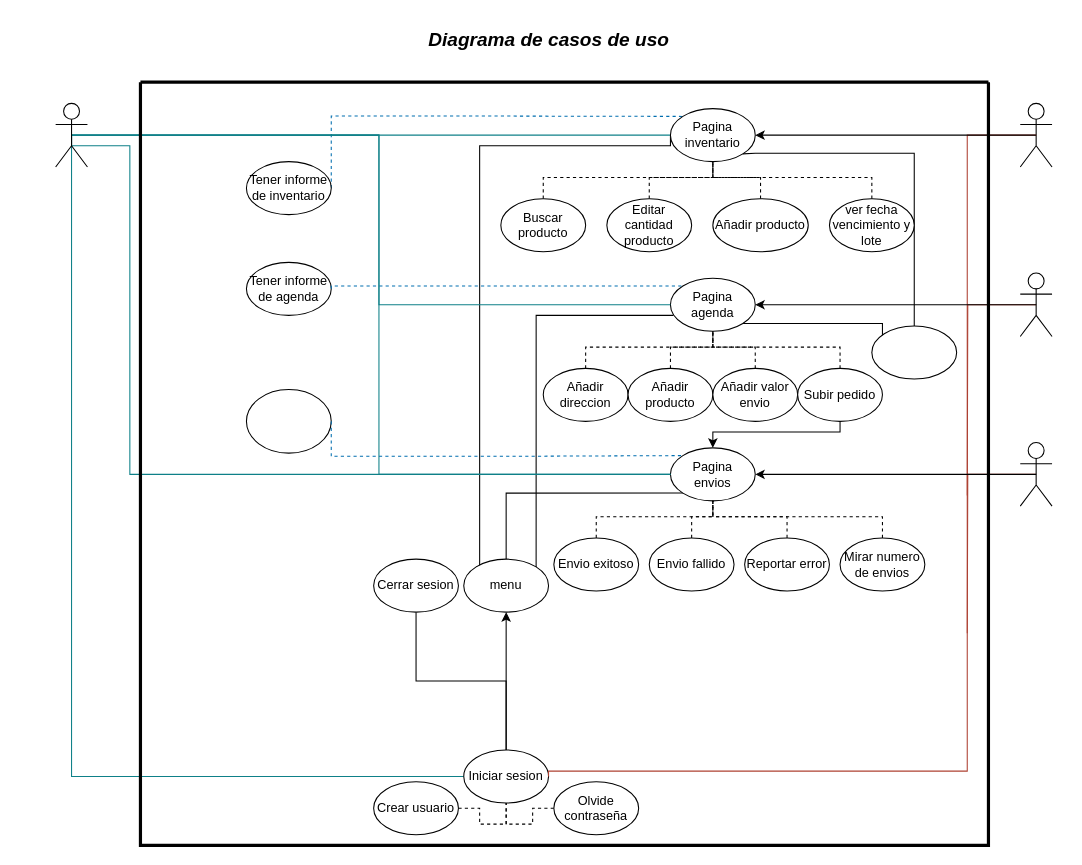
The diagram is 1082 pixels wide and 865 high, and some of its shapes have lost their labels. Each missing label, with the centre of its shape:
Actualizar inventario: point (914, 352)
ADMINISTRADOR: point (71, 134)
Agenda: point (1035, 304)
Envio: point (1035, 473)
Inventario: point (1035, 134)
Tener informe de envios: point (288, 420)
